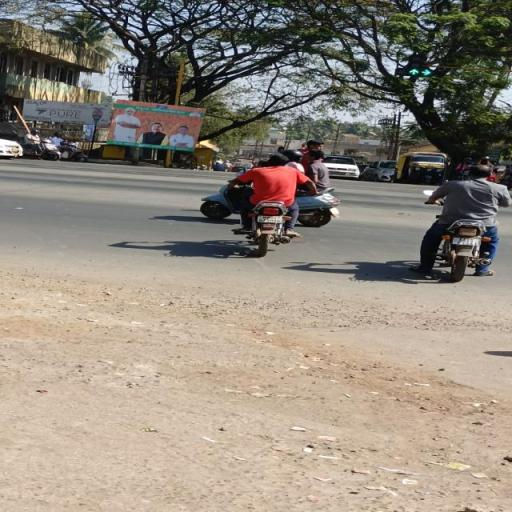bike: (226, 153, 310, 256)
numberplate: (257, 215, 282, 224)
withouthelmet: (270, 155, 287, 167)
